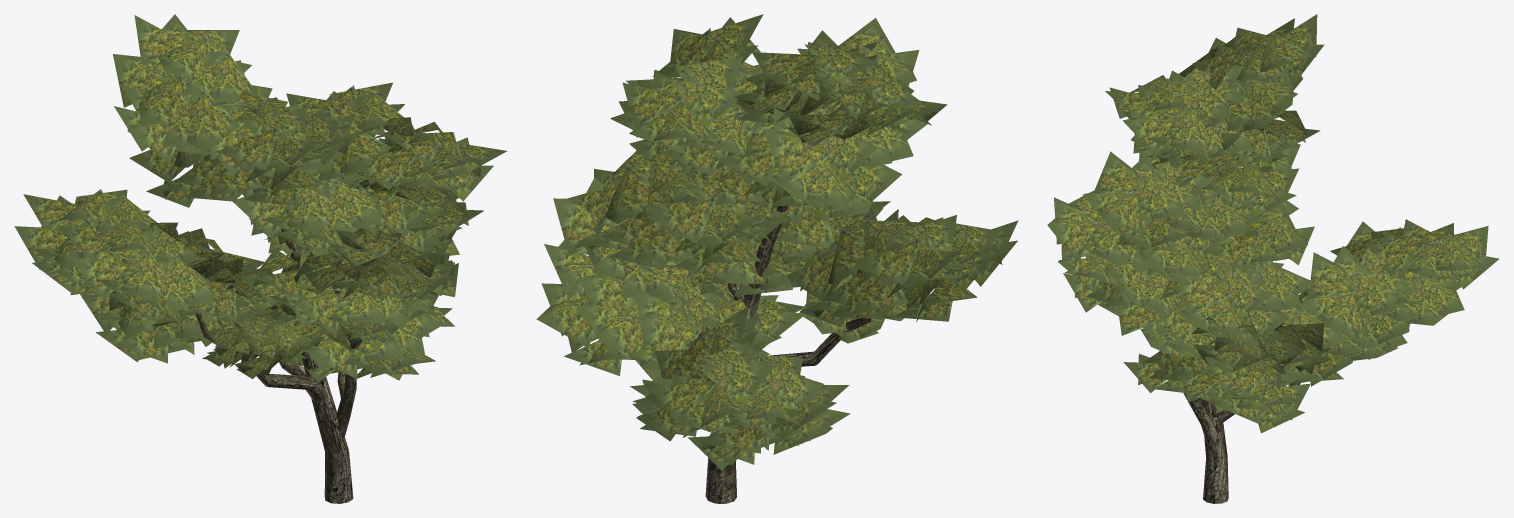
The model's file is oak-summer-c.DAE.
The picture shows the model from 3 angles, left to right: view 1: azimuth 30°, elevation 25°; view 2: azimuth 150°, elevation 25°; view 3: azimuth 270°, elevation 25°; orthographic projection. The views are drawn at different scales.
Visible parts, largest first — view 1: oak_c; view 2: oak_c; view 3: oak_c.
Boxes of the visible parts, box(x1,y1,x2,y2) form: oak_c: box(14, 14, 506, 503); oak_c: box(536, 14, 1018, 503); oak_c: box(1047, 14, 1499, 503).
Size of what is drawn, in the model's own units: 1108 by 1204 by 1239.
